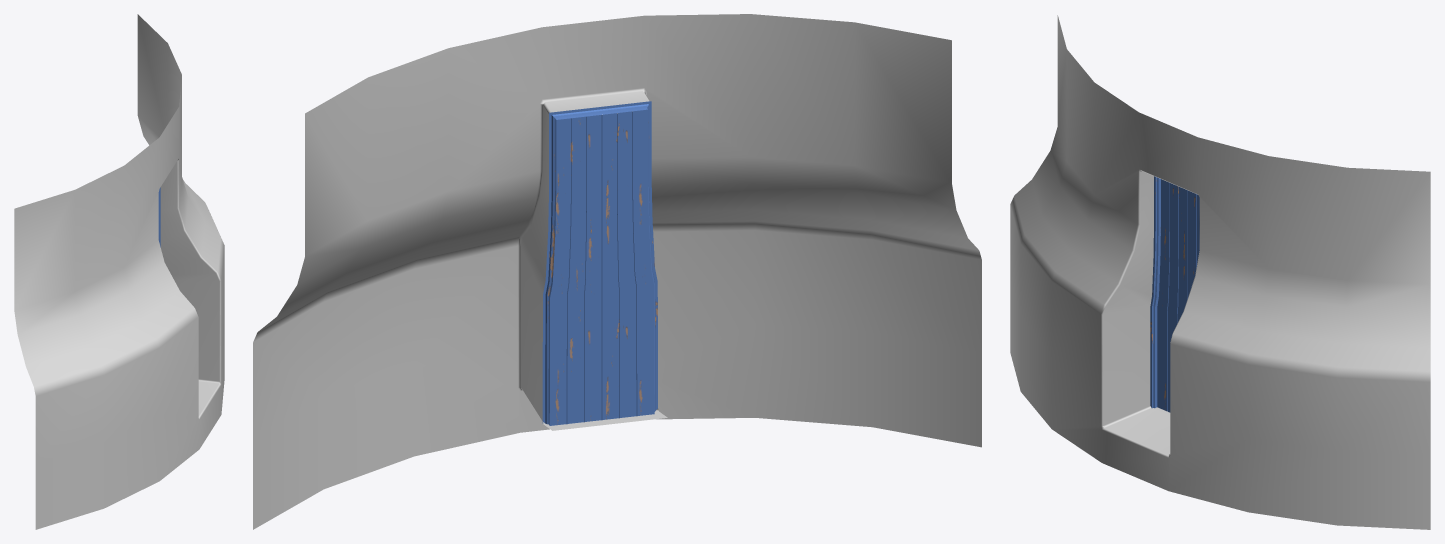
File: WindMillDoor.fbx
3 renders of one model, left to right at view 1: azimuth 30°, elevation 25°; view 2: azimuth 150°, elevation 25°; view 3: azimuth 270°, elevation 25°, orthographic. The views are drawn at different scales.
Parts seen in each view (by area): view 1: WindMillDoor; view 2: WindMillDoor; view 3: WindMillDoor.
Boxes of the visible parts, x1=… form: WindMillDoor: x1=14, y1=14, x2=224, y2=529; WindMillDoor: x1=253, y1=14, x2=981, y2=529; WindMillDoor: x1=1010, y1=15, x2=1430, y2=529.
Size of the model in its own units: 338 by 300 by 338.
Materials: 2 (1 with a texture image).
